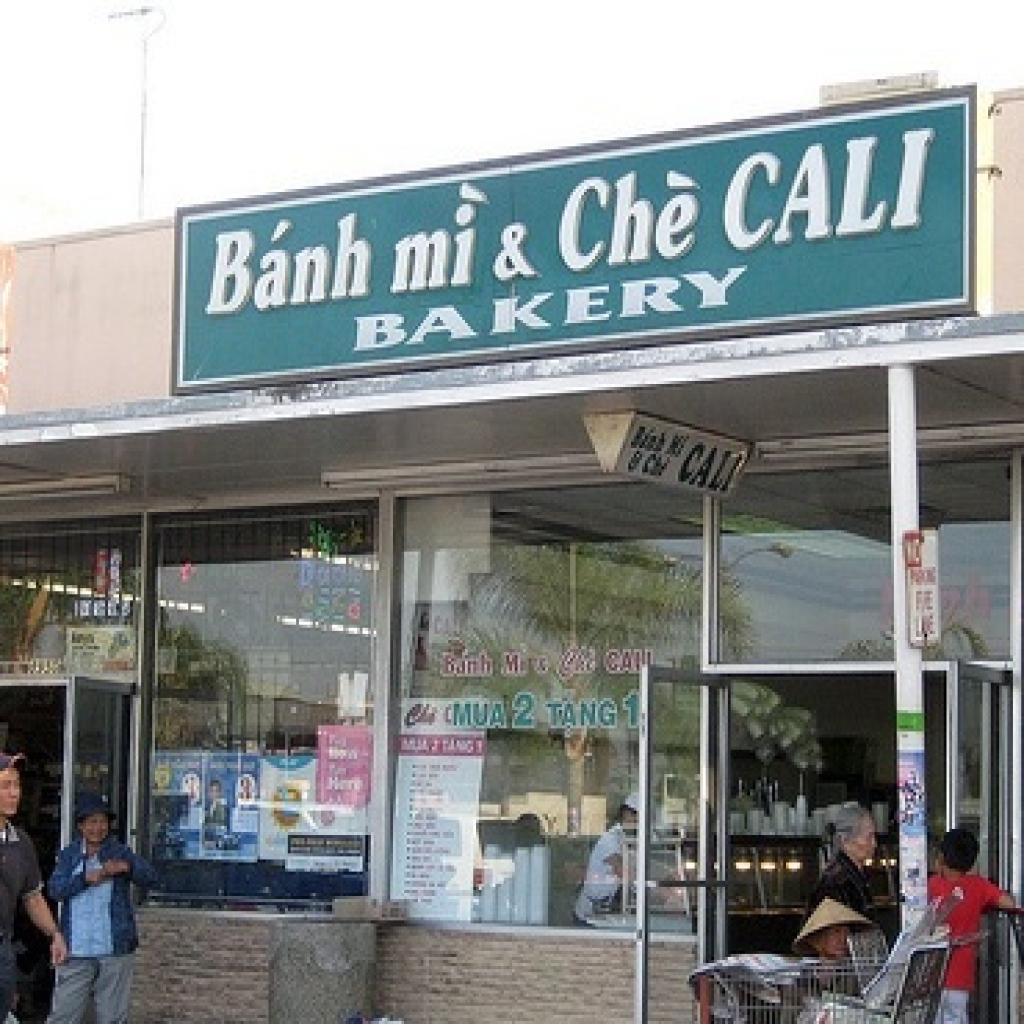text: (346, 262, 761, 360), (720, 119, 946, 262), (199, 204, 385, 323), (554, 162, 708, 284), (385, 180, 501, 305), (670, 436, 750, 500), (490, 216, 551, 286), (542, 694, 623, 744), (448, 698, 512, 737), (440, 646, 498, 683), (554, 643, 600, 686), (628, 421, 676, 457), (510, 689, 542, 734), (404, 698, 446, 731), (639, 451, 678, 485), (601, 646, 639, 680), (620, 686, 645, 734), (498, 649, 532, 683), (664, 430, 695, 463), (440, 737, 479, 759), (398, 734, 432, 756), (238, 774, 257, 808), (626, 451, 648, 475), (531, 655, 551, 680), (429, 737, 443, 759), (476, 737, 487, 759)
